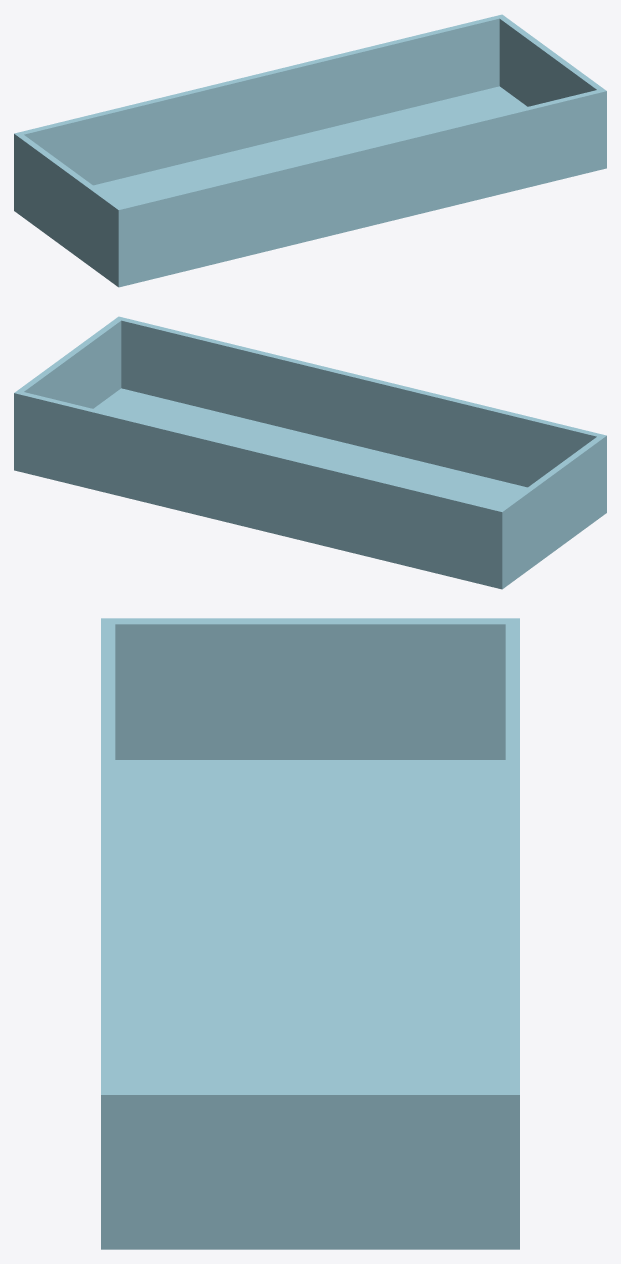
Rendered from peixos_1.fbx.
3 renders of one model, top to bottom at view 1: azimuth 30°, elevation 25°; view 2: azimuth 150°, elevation 25°; view 3: azimuth 270°, elevation 25°, orthographic. The views are drawn at different scales.
Visible parts, largest first — view 1: peixos_1|fish_tank_L_scene.blend|Dupli|; view 2: peixos_1|fish_tank_L_scene.blend|Dupli|; view 3: peixos_1|fish_tank_L_scene.blend|Dupli|.
Part boxes in pixels (x1,y1,x2,y2): peixos_1|fish_tank_L_scene.blend|Dupli|: [14, 14, 606, 287]; peixos_1|fish_tank_L_scene.blend|Dupli|: [14, 316, 606, 589]; peixos_1|fish_tank_L_scene.blend|Dupli|: [101, 618, 519, 1249].
Size of the model in its own units: 335 by 50.75 by 125.
